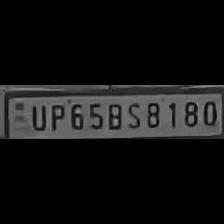0: (199, 97, 217, 127)
1: (162, 98, 180, 130)
5: (85, 99, 103, 130)
6: (67, 100, 85, 132)
8: (142, 98, 162, 130), (180, 97, 198, 128)
B: (104, 99, 124, 130)
P: (46, 101, 64, 133)
S: (125, 99, 143, 130)
U: (28, 102, 46, 132)
